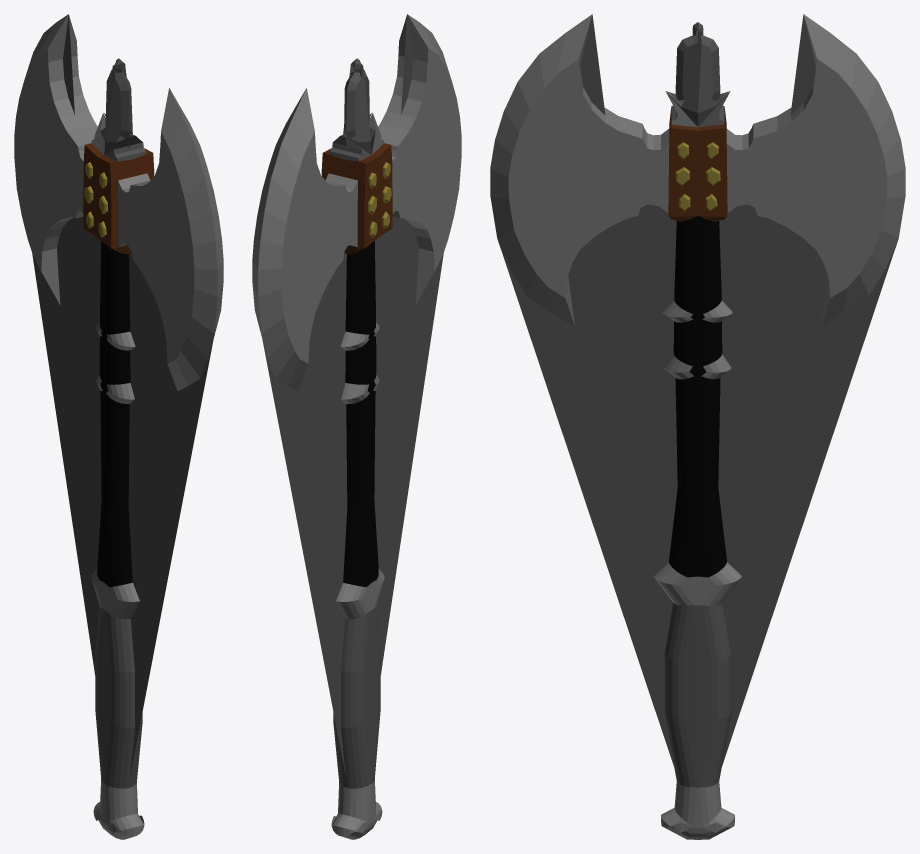
Rendered from Battle Axe.fbx.
3 views of the same model, side by side, from view 1: azimuth 30°, elevation 25°; view 2: azimuth 150°, elevation 25°; view 3: azimuth 270°, elevation 25° (orthographic). The views are drawn at different scales.
Parts seen in each view (by area): view 1: Battle Axe; view 2: Battle Axe; view 3: Battle Axe.
Part boxes in pixels (x1,y1,x2,y2): Battle Axe: (14, 14, 223, 839); Battle Axe: (252, 14, 461, 839); Battle Axe: (490, 14, 905, 839).
Size of the model in its own units: 13.32 by 203 by 92.71.
